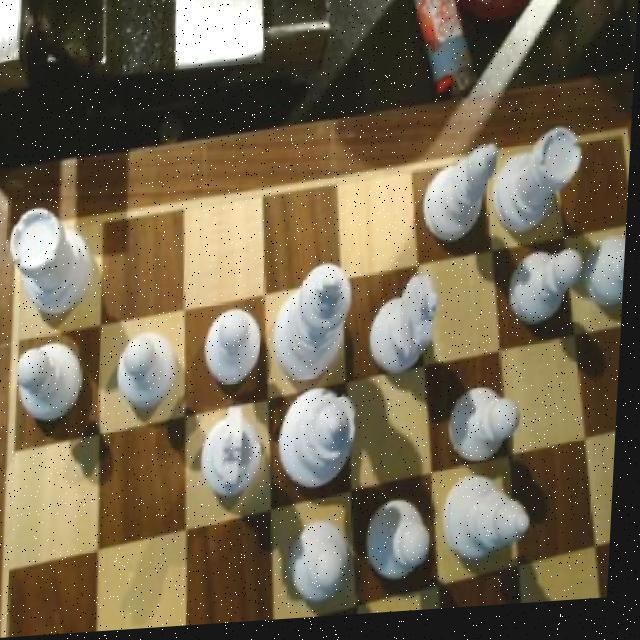black-rook: (448, 483, 536, 579), (422, 144, 503, 247)
white-bishop: (274, 267, 357, 383)
white-king: (368, 276, 445, 380), (202, 407, 266, 506)
white-knight: (449, 390, 531, 475), (508, 255, 587, 336), (369, 502, 437, 592), (293, 524, 361, 611), (17, 342, 84, 429), (204, 310, 268, 392), (122, 328, 182, 414)
white-pawn: (278, 389, 363, 497)
white-queen: (6, 202, 95, 318), (492, 130, 582, 240)
